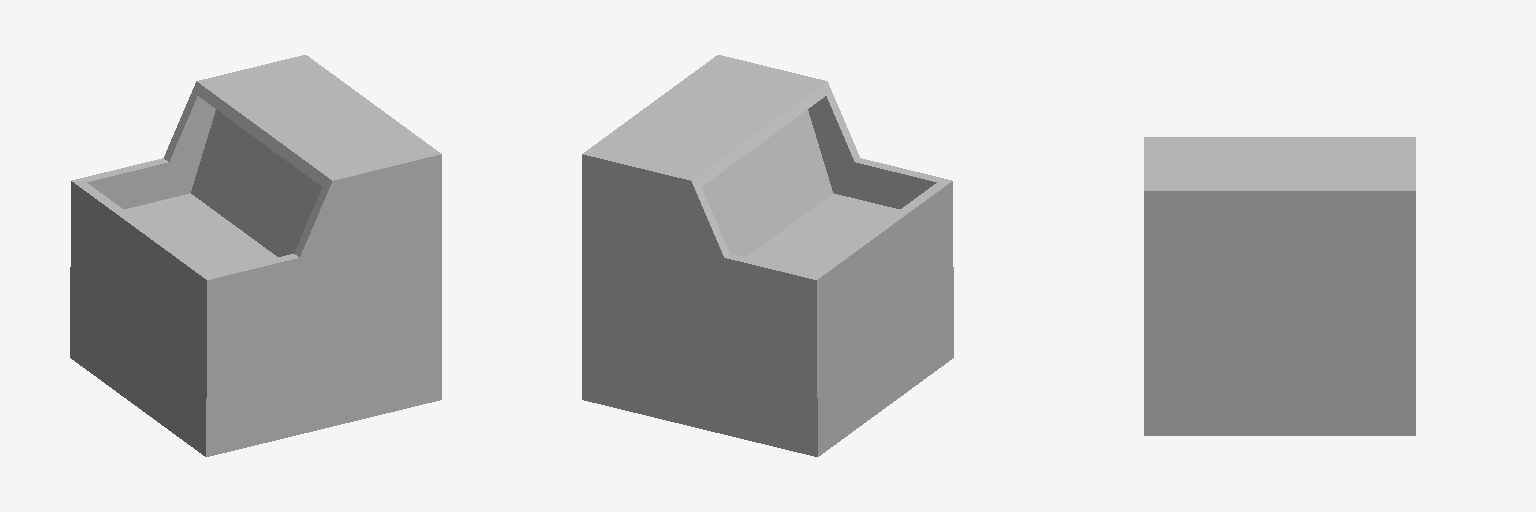
Rendered from icecream_shelf.obj.
3 renders of one model, left to right at view 1: azimuth 30°, elevation 25°; view 2: azimuth 150°, elevation 25°; view 3: azimuth 270°, elevation 25°, orthographic.
Parts seen in each view (by area): view 1: icecream_self_Cube.008; view 2: icecream_self_Cube.008; view 3: icecream_self_Cube.008.
Part boxes in pixels (bbox=[...]): icecream_self_Cube.008: bbox=[70, 55, 441, 456]; icecream_self_Cube.008: bbox=[582, 55, 953, 456]; icecream_self_Cube.008: bbox=[1144, 137, 1415, 435].
Size of the model in its own units: 2 by 1.99 by 2.